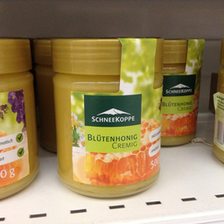honey: (51, 35, 166, 199)
